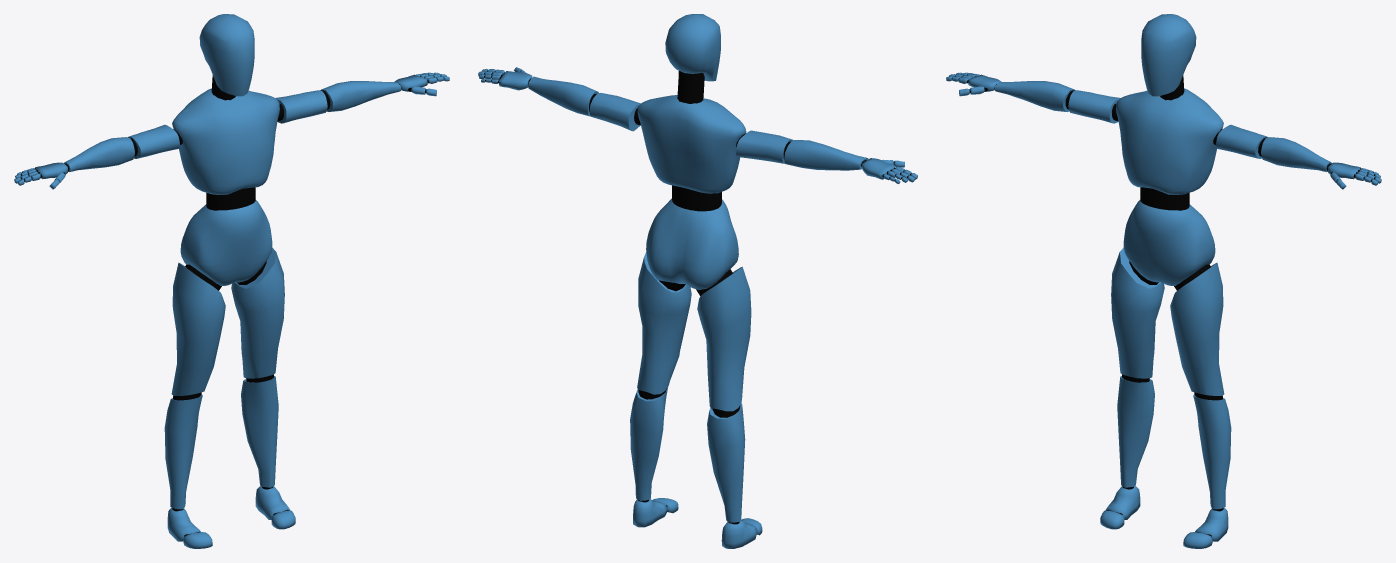
File: mannequin.gltf
3 renders of one model, left to right at view 1: azimuth 30°, elevation 25°; view 2: azimuth 150°, elevation 25°; view 3: azimuth 330°, elevation 25°, orthographic.
Parts seen in each view (by area): view 1: mannequin_body, mannequin_joints; view 2: mannequin_body, mannequin_joints; view 3: mannequin_body, mannequin_joints.
Part boxes in pixels (x1,y1,x2,y2): mannequin_body: (14,14,449,548); mannequin_joints: (20,74,444,536); mannequin_body: (478,14,917,548); mannequin_joints: (484,70,911,524); mannequin_body: (946,14,1381,548); mannequin_joints: (951,74,1375,536).
Size of the model in its own units: 1.52 by 1.71 by 0.2296.
